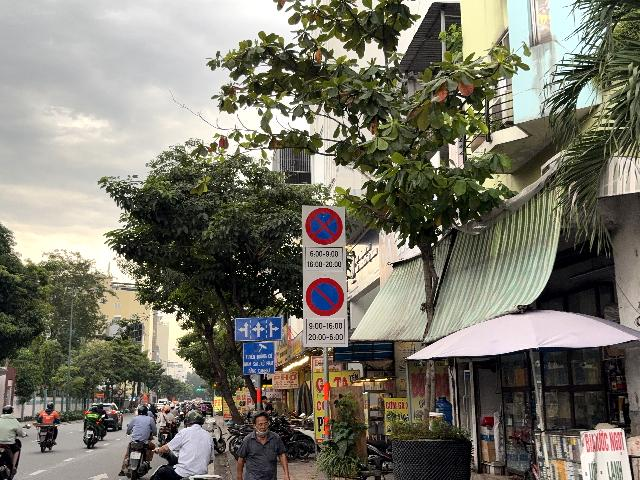cam-do-xe: (305, 278, 344, 316)
cam-dung-va-do-xe: (305, 208, 342, 244)
